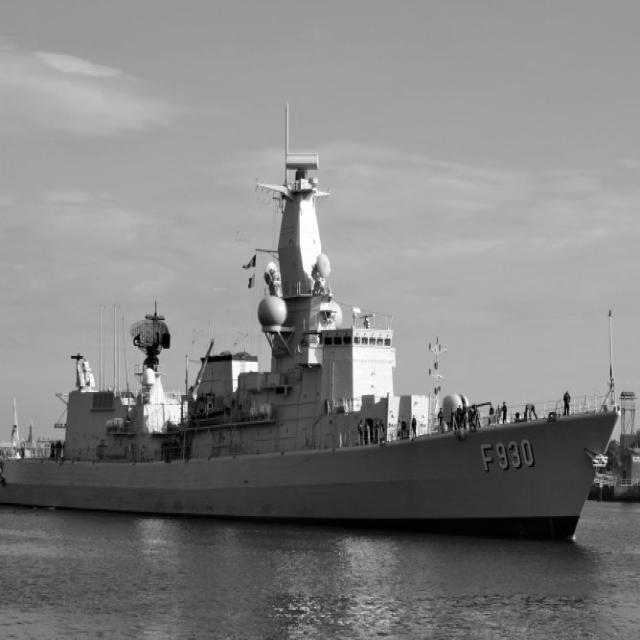Fragata: (1, 105, 628, 546)
